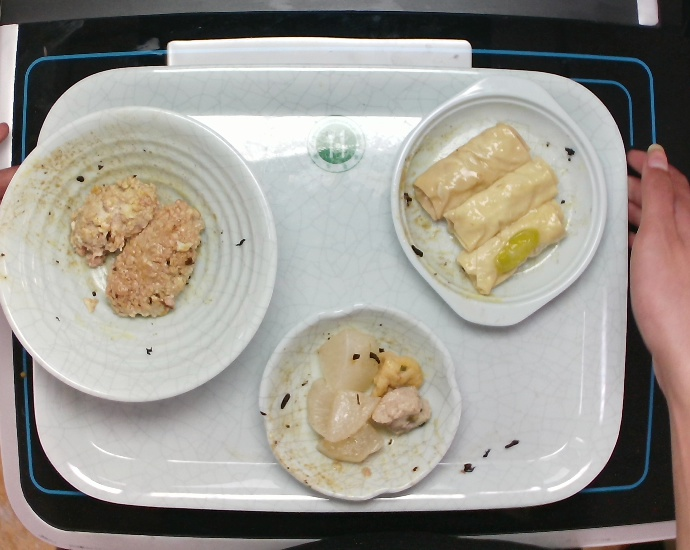JYsf-Ao_Yuan_Wan: (253, 300, 464, 505)
JYsf-Shuang_Er_Pan: (385, 71, 611, 331)
JYsf-Xiao_Tang_Wan: (1, 102, 283, 407)
